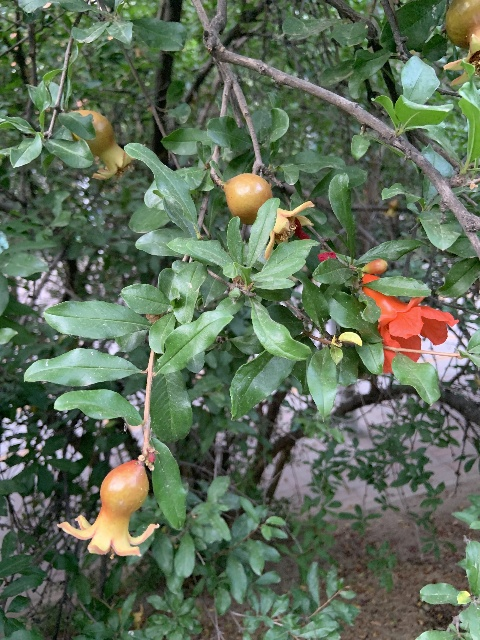bud: (364, 258, 387, 274)
early-fruit: (56, 460, 158, 556), (224, 173, 316, 260), (72, 110, 137, 181)
flower: (362, 276, 458, 374)
mid-growth: (442, 0, 480, 88)
